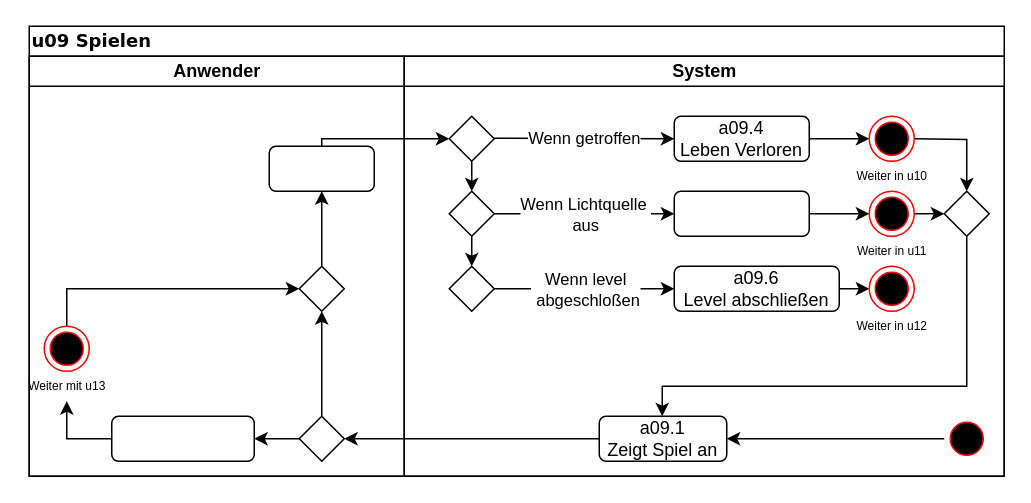
This 1031x503 diagram has some shape labels left out. Each missing label, with the centre of its shape:
a09.2 Spiel Pausieren: (x=182, y=438)
a09.3 Bewegen: (x=321, y=168)
a09.5 Lichtquelle aus: (x=741, y=213)
